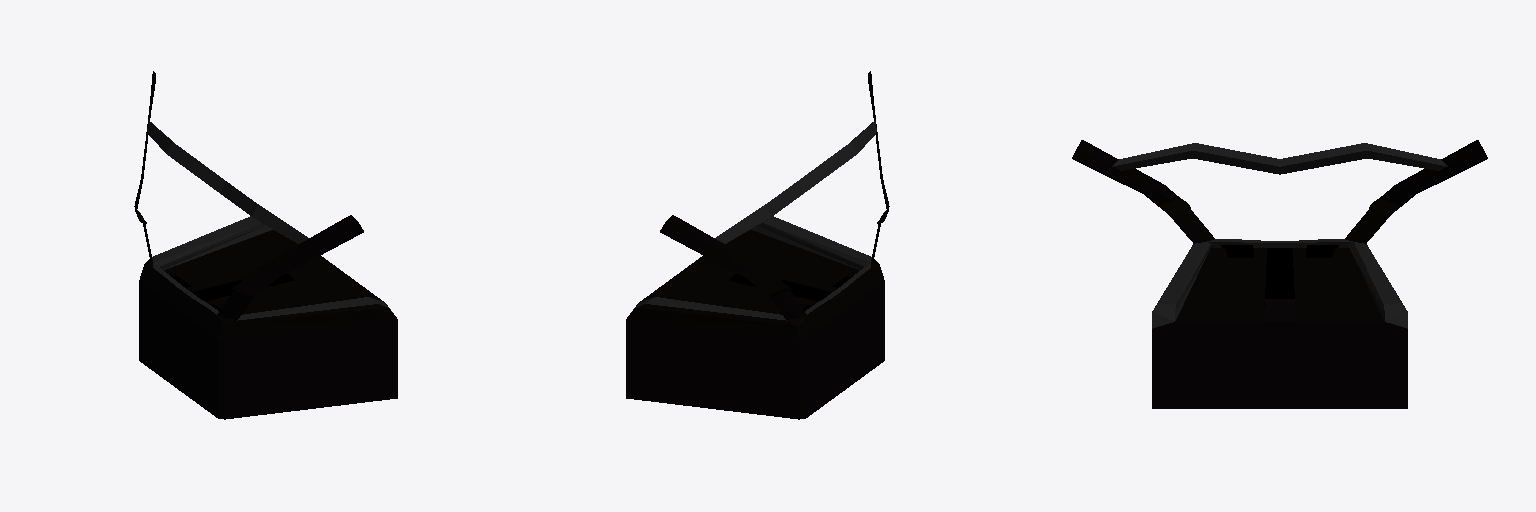
File: cockpit.obj
3 renders of one model, left to right at view 1: azimuth 30°, elevation 25°; view 2: azimuth 150°, elevation 25°; view 3: azimuth 270°, elevation 25°, orthographic.
Visible parts, largest first — view 1: Cube_Cube.002; view 2: Cube_Cube.002; view 3: Cube_Cube.002.
Boxes of the visible parts, box(x1,y1,x2,y2) form: Cube_Cube.002: box(134, 71, 397, 419); Cube_Cube.002: box(626, 71, 889, 419); Cube_Cube.002: box(1072, 140, 1487, 408).
Size of the model in its own units: 5.61 by 7.92 by 13.04.